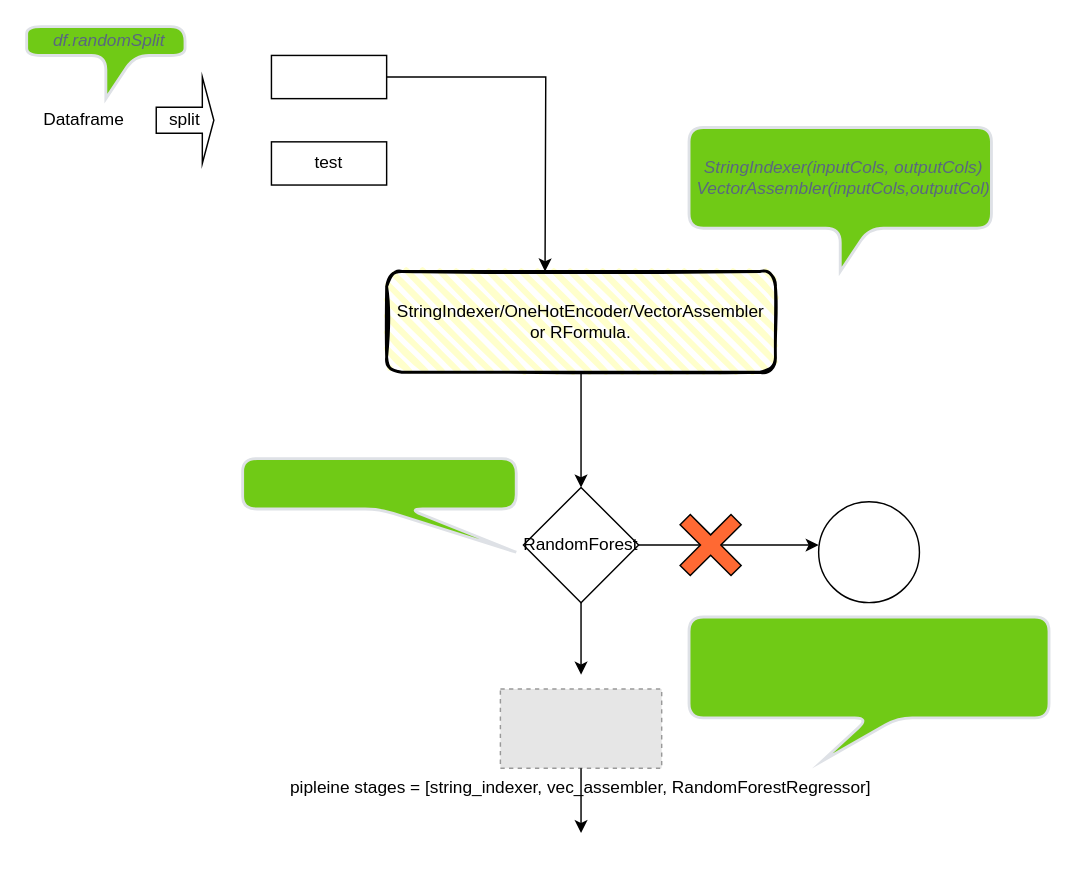
This 1074x870 diagram has some shape labels left out. Grey dashed boxes stand in for pictures. Each missing label, with the centre of its shape:
DecisionTreeRegressor(labelCol): [378,504]
OHE: [868,551]
RandomForestREgressor(labelCol,maxBins): [868,688]
train: [328,76]
